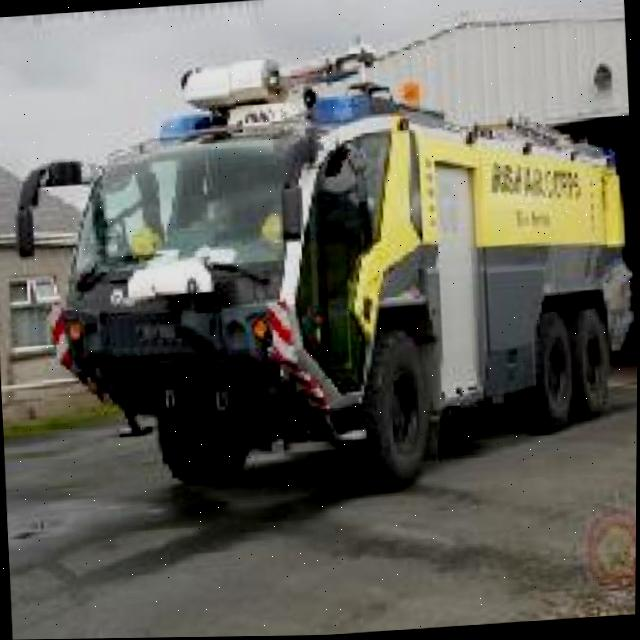emergency: (3, 26, 640, 515)
